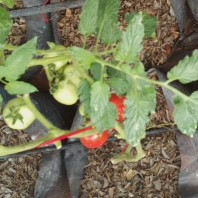tomato: (1, 94, 39, 135), (79, 119, 112, 157), (48, 78, 84, 112), (41, 41, 71, 73), (57, 66, 88, 88), (108, 92, 129, 123), (78, 102, 90, 115)
